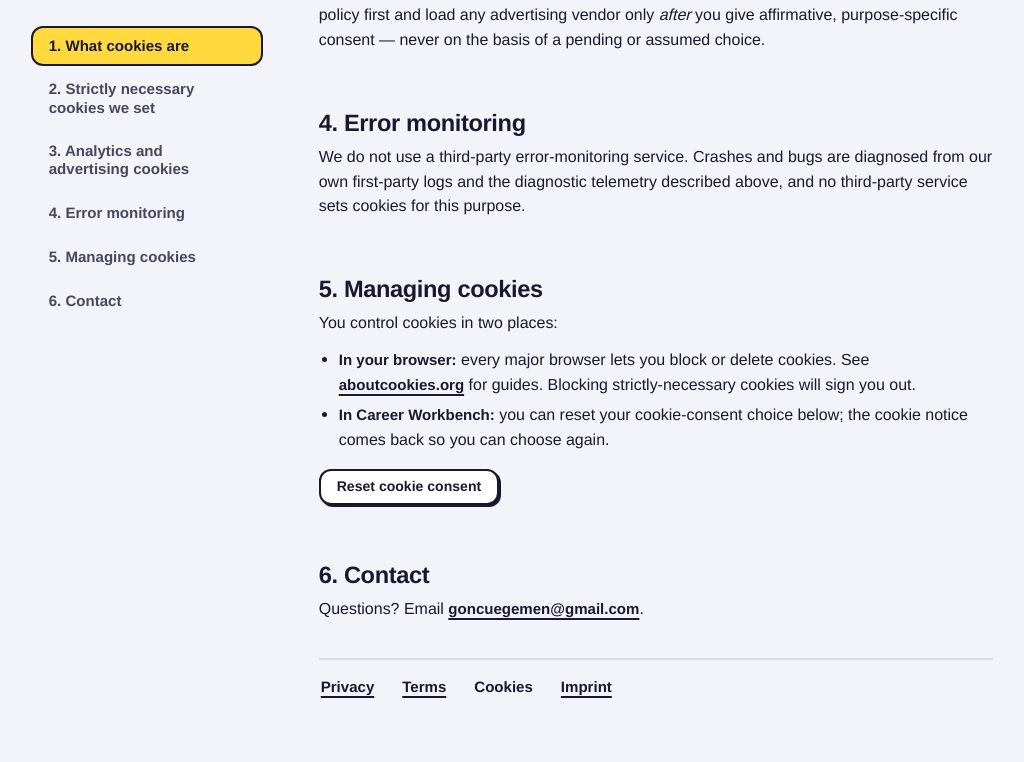
Test: CookiePolicyPage › resets the stored consent, says so under the button (no toast) and refreshes the live table
The image size is (1024, 762).
(page scrolled)
Click the button "Reset cookie consent": (409, 487) [319,469,499,505]
(page scrolled)
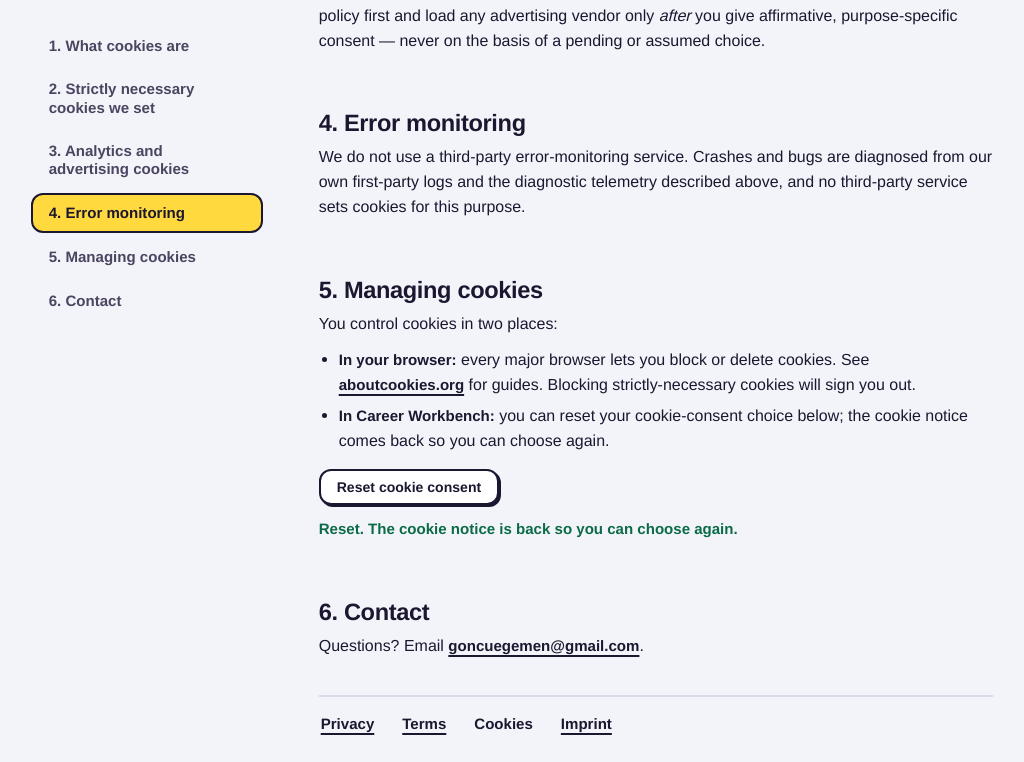
Check: the message with class "legal-page__status" reads "Reset. The cookie notice is back so you can choose again.", box [319,519,738,539]
